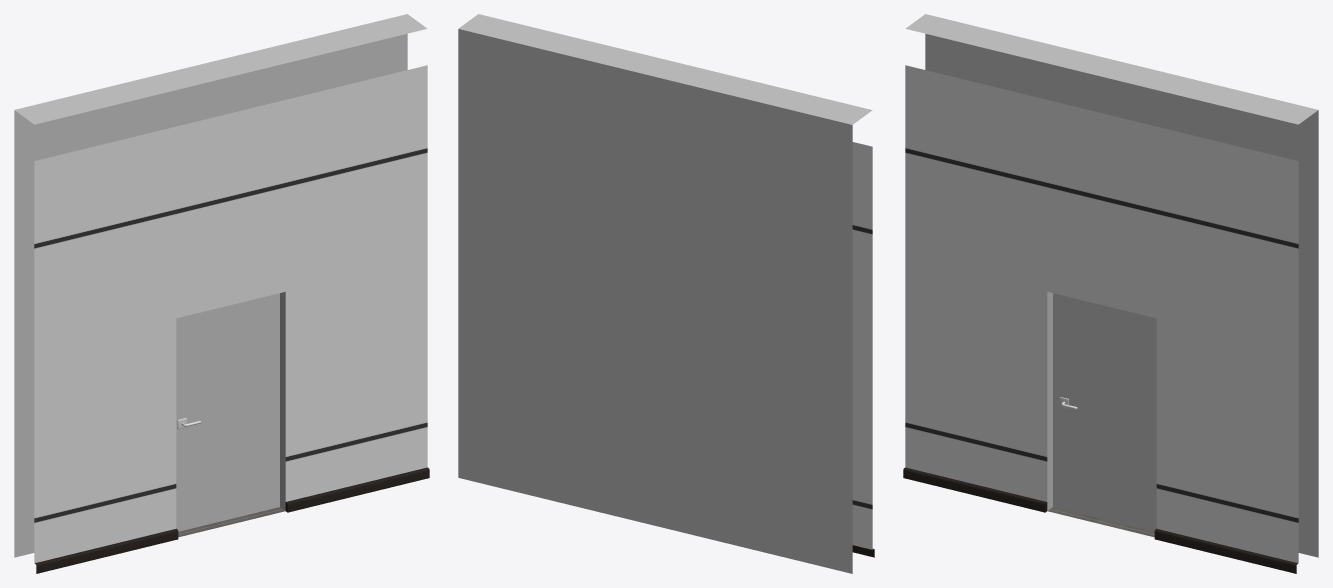
File: Wall03.FBX
3 renders of one model, left to right at view 1: azimuth 30°, elevation 25°; view 2: azimuth 150°, elevation 25°; view 3: azimuth 330°, elevation 25°, orthographic.
Parts seen in each view (by area): view 1: Wall03; view 2: Wall03; view 3: Wall03.
Boxes of the visible parts, box(x1,y1,x2,y2) form: Wall03: box(14, 14, 429, 573); Wall03: box(458, 14, 874, 573); Wall03: box(903, 14, 1318, 573).
Size of the model in its own units: 4.5 by 4.9 by 0.44.
